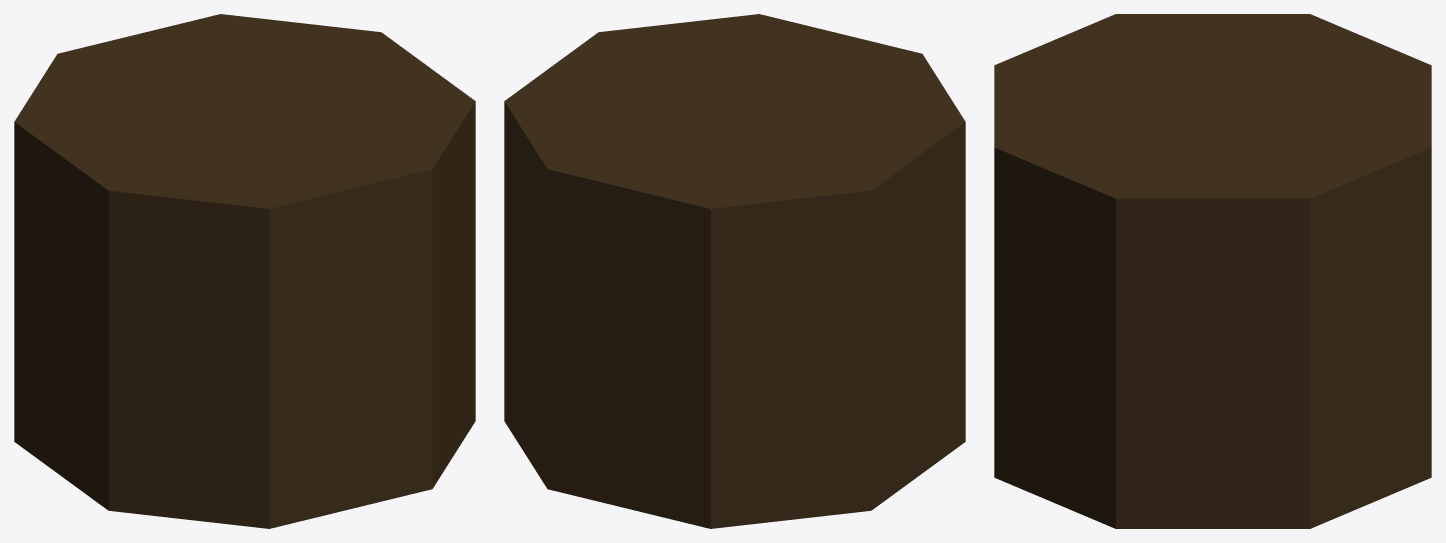
The model's file is stump_collider.fbx.
The picture shows the model from 3 angles, left to right: view 1: azimuth 30°, elevation 25°; view 2: azimuth 150°, elevation 25°; view 3: azimuth 270°, elevation 25°; orthographic projection. The views are drawn at different scales.
Visible parts, largest first — view 1: Stump_Collider; view 2: Stump_Collider; view 3: Stump_Collider.
Boxes of the visible parts, <box> form: Stump_Collider: <box>14,14,475,528</box>; Stump_Collider: <box>504,14,965,528</box>; Stump_Collider: <box>994,14,1431,528</box>.
Size of the model in its own units: 120 by 100 by 120.
